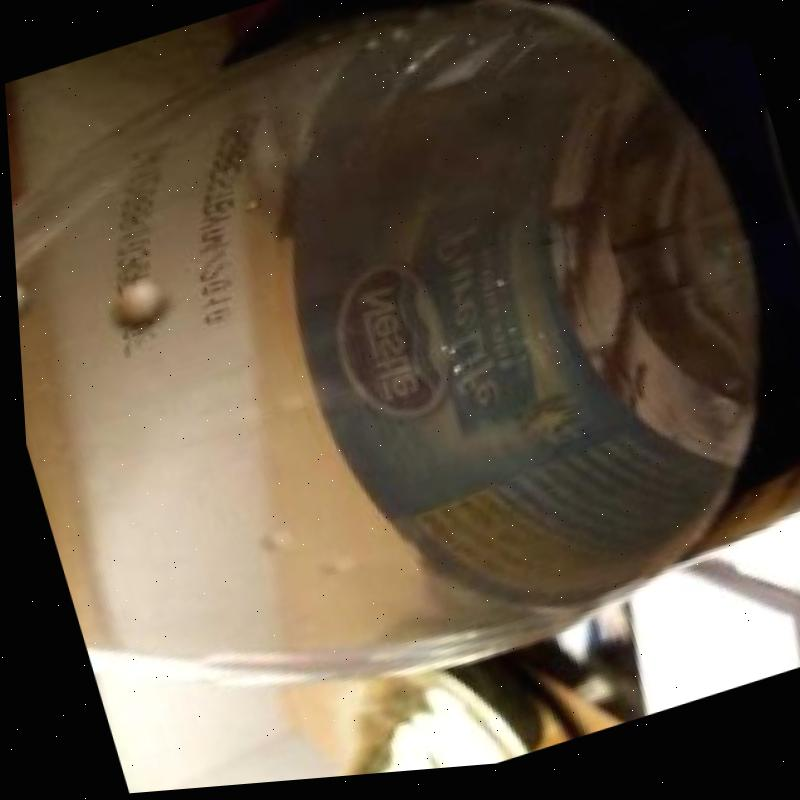botella: (0, 0, 800, 774)
